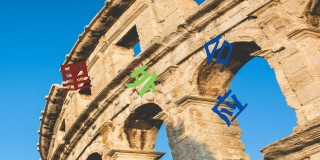合: (203, 34, 234, 65)
外: (125, 65, 158, 97)
应: (211, 89, 249, 127)
里: (60, 61, 91, 90)
